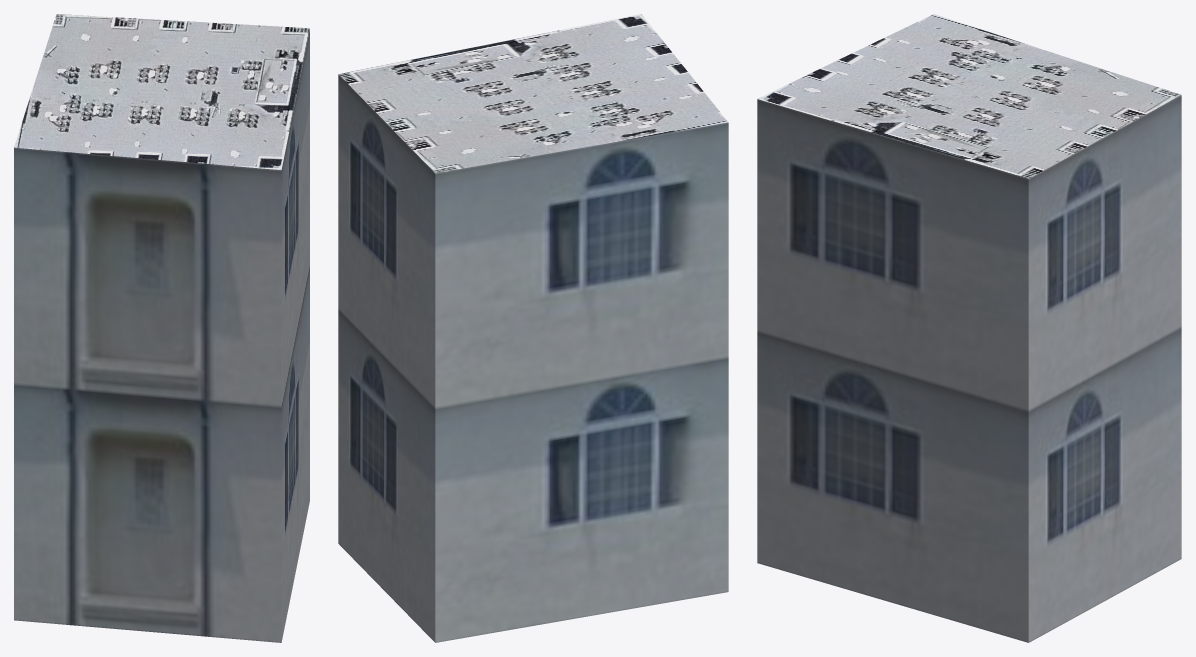
Rendered from ResTex__4400.fbx.
3 views of the same model, side by side, from view 1: azimuth 30°, elevation 25°; view 2: azimuth 150°, elevation 25°; view 3: azimuth 270°, elevation 25° (orthographic).
Visible parts, largest first — view 1: CityEngineMaterial_17_m, CityEngineMaterial_8_m; view 2: CityEngineMaterial_17_m, CityEngineMaterial_8_m; view 3: CityEngineMaterial_17_m, CityEngineMaterial_8_m.
Boxes of the visible parts, bbox=[...] form: CityEngineMaterial_17_m: bbox=[14, 29, 309, 642]; CityEngineMaterial_8_m: bbox=[14, 14, 309, 170]; CityEngineMaterial_17_m: bbox=[338, 74, 728, 642]; CityEngineMaterial_8_m: bbox=[338, 14, 728, 173]; CityEngineMaterial_17_m: bbox=[757, 95, 1181, 642]; CityEngineMaterial_8_m: bbox=[758, 14, 1181, 178].
Bounding box in the file's own units: 4.57 × 6 × 4.98.
2 materials, 2 textured.
